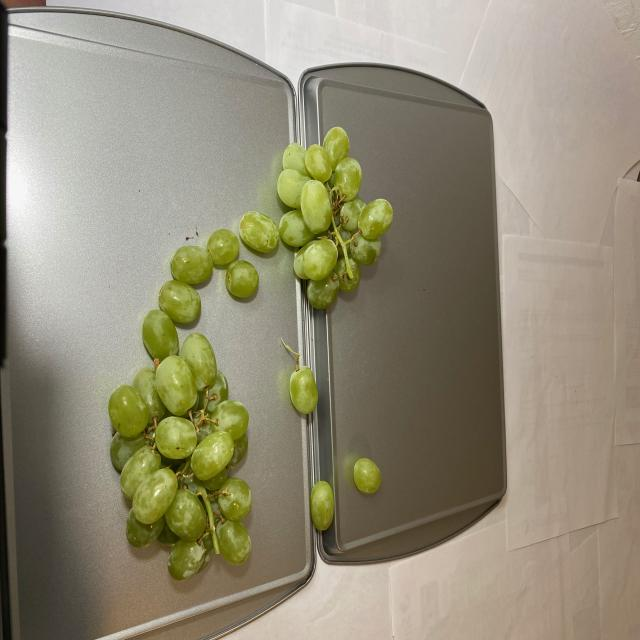grapes: (112, 123, 394, 580)
